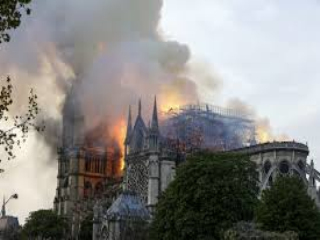fire: (106, 117, 129, 172)
smoke: (32, 5, 211, 127)
